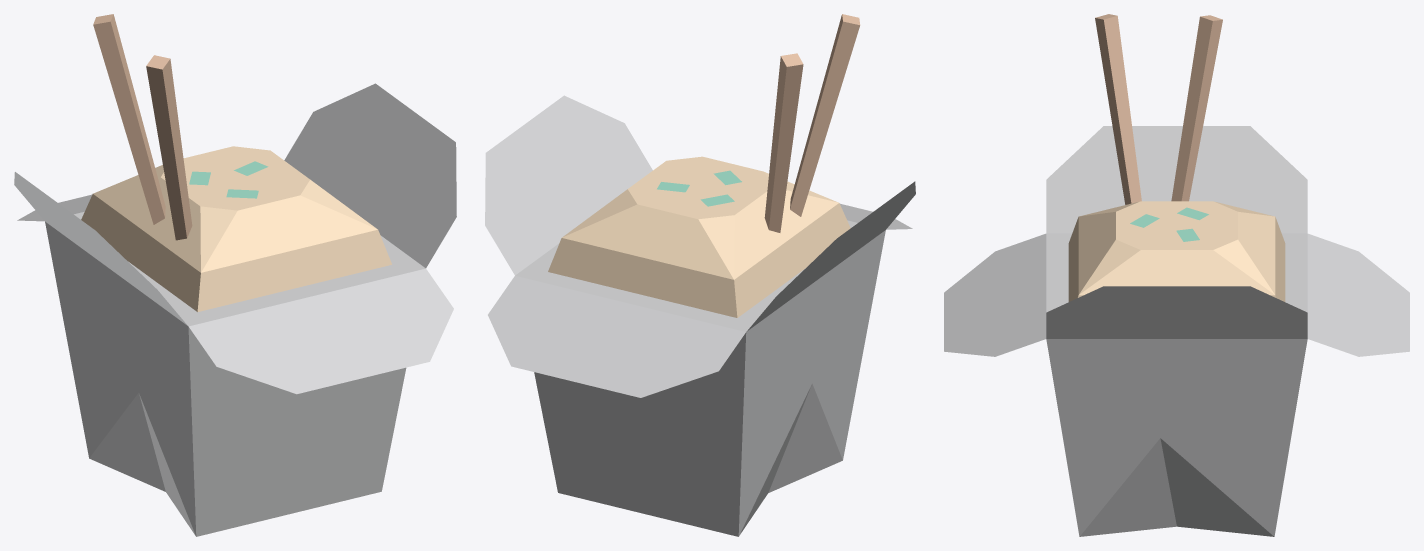
Rendered from chinese.fbx.
The picture shows the model from 3 angles, left to right: view 1: azimuth 30°, elevation 25°; view 2: azimuth 150°, elevation 25°; view 3: azimuth 270°, elevation 25°; orthographic projection. The views are drawn at different scales.
Visible parts, largest first — view 1: chinese; view 2: chinese; view 3: chinese.
Part boxes in pixels (x1,y1,x2,y2): chinese: (14, 14, 456, 536); chinese: (485, 14, 915, 536); chinese: (944, 14, 1409, 536).
Size of the model in its own units: 45.38 by 56.71 by 55.75.
